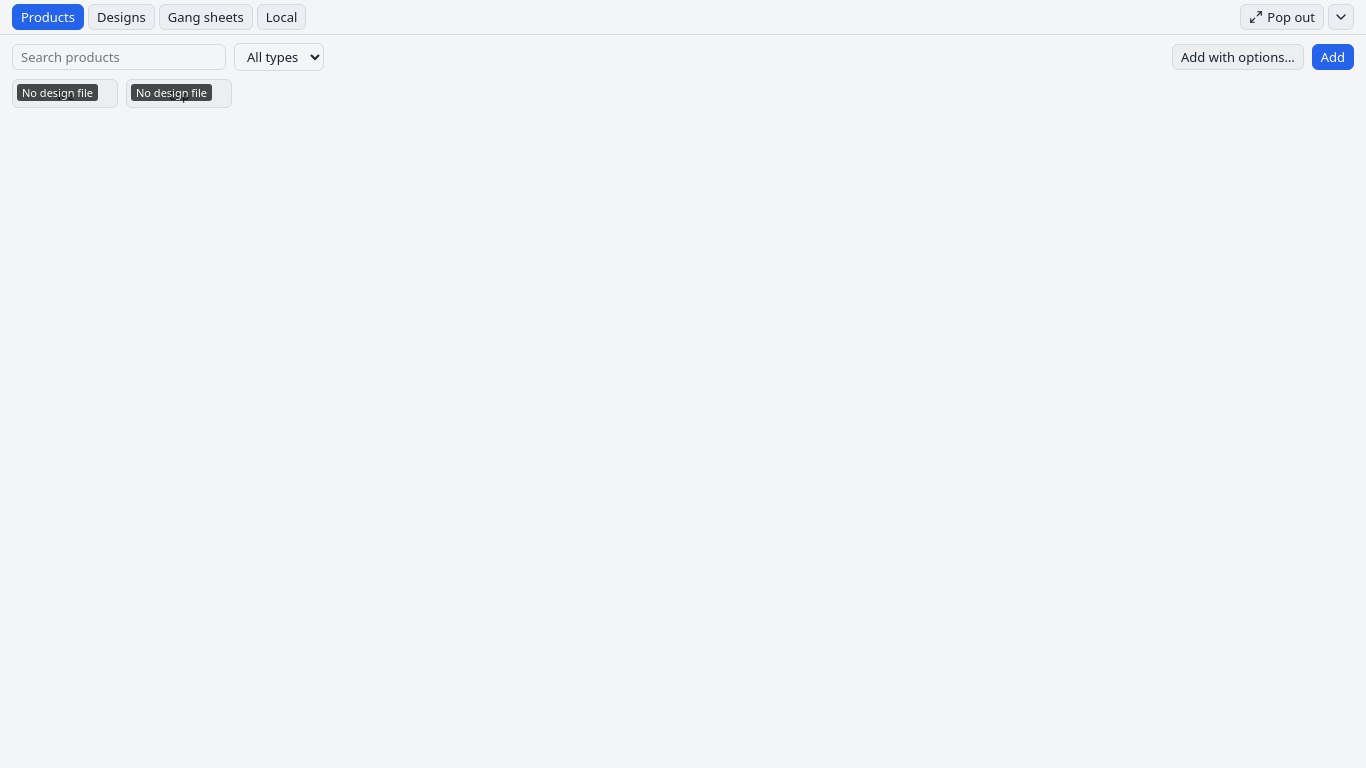
LibraryBrowser › counts selected items that are not in the current view
The width and height of the screenshot is (1366, 768).
Step 1. Click the button "Pop out" → coordinates (1282, 17), box x1=1240 y1=4 x2=1324 y2=30
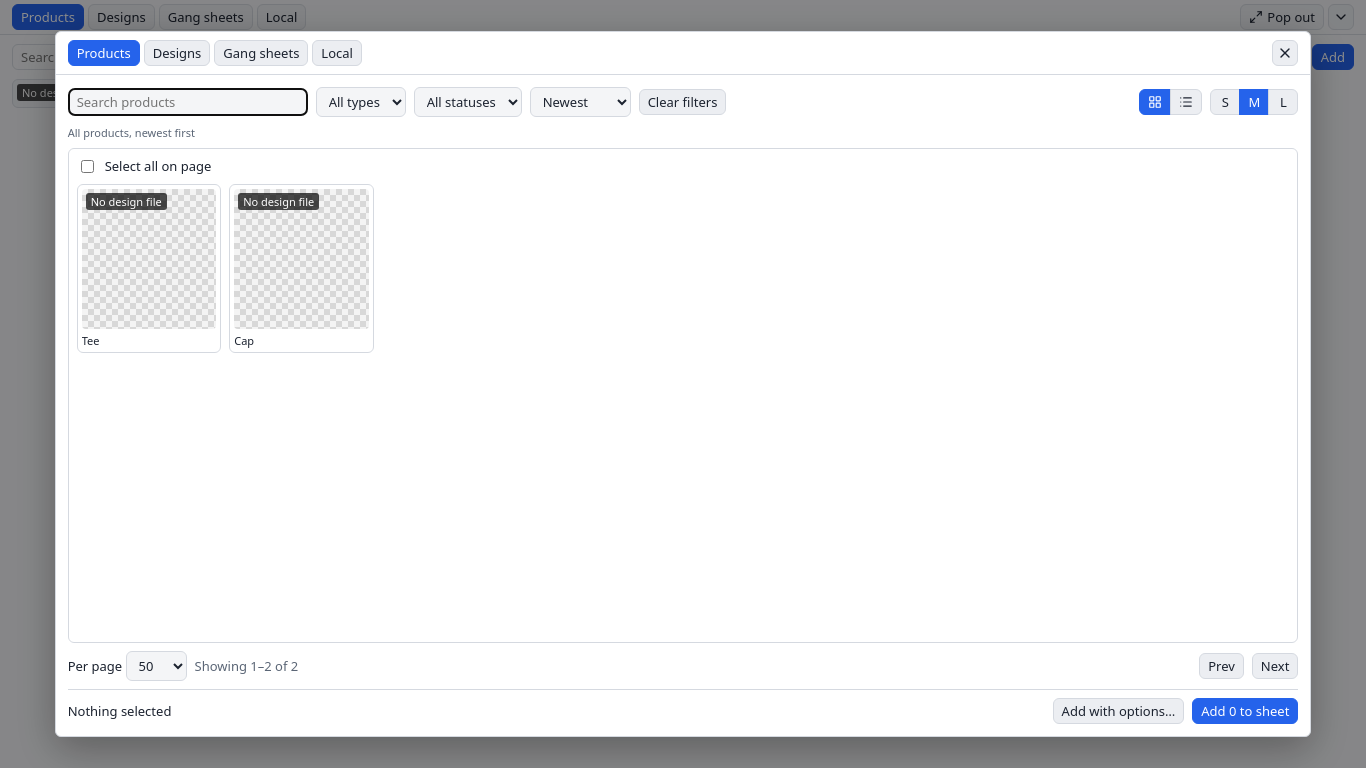
Step 2. Click the checkbox labelled "Tee" → coordinates (149, 268), box x1=77 y1=184 x2=221 y2=353
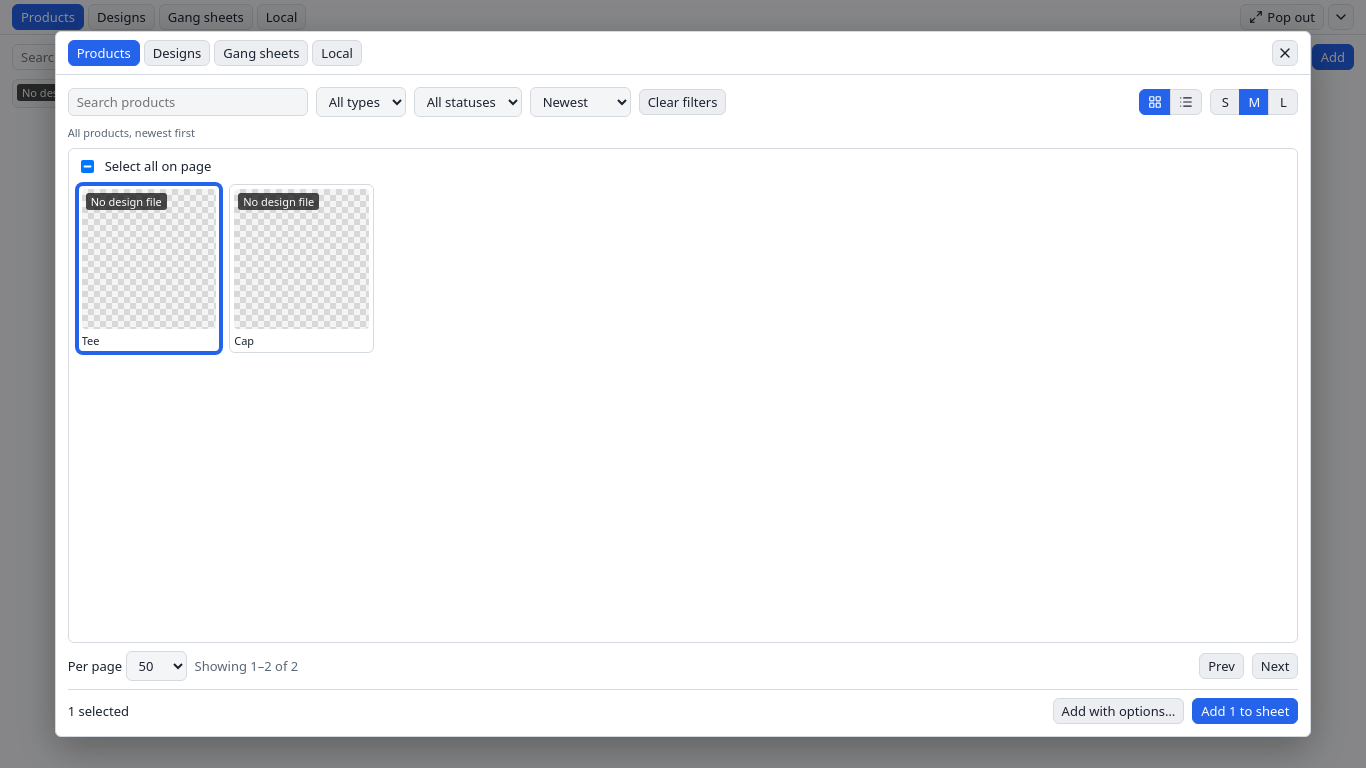
Step 3. Click the checkbox labelled "Cap" → coordinates (302, 268), box x1=229 y1=184 x2=374 y2=353
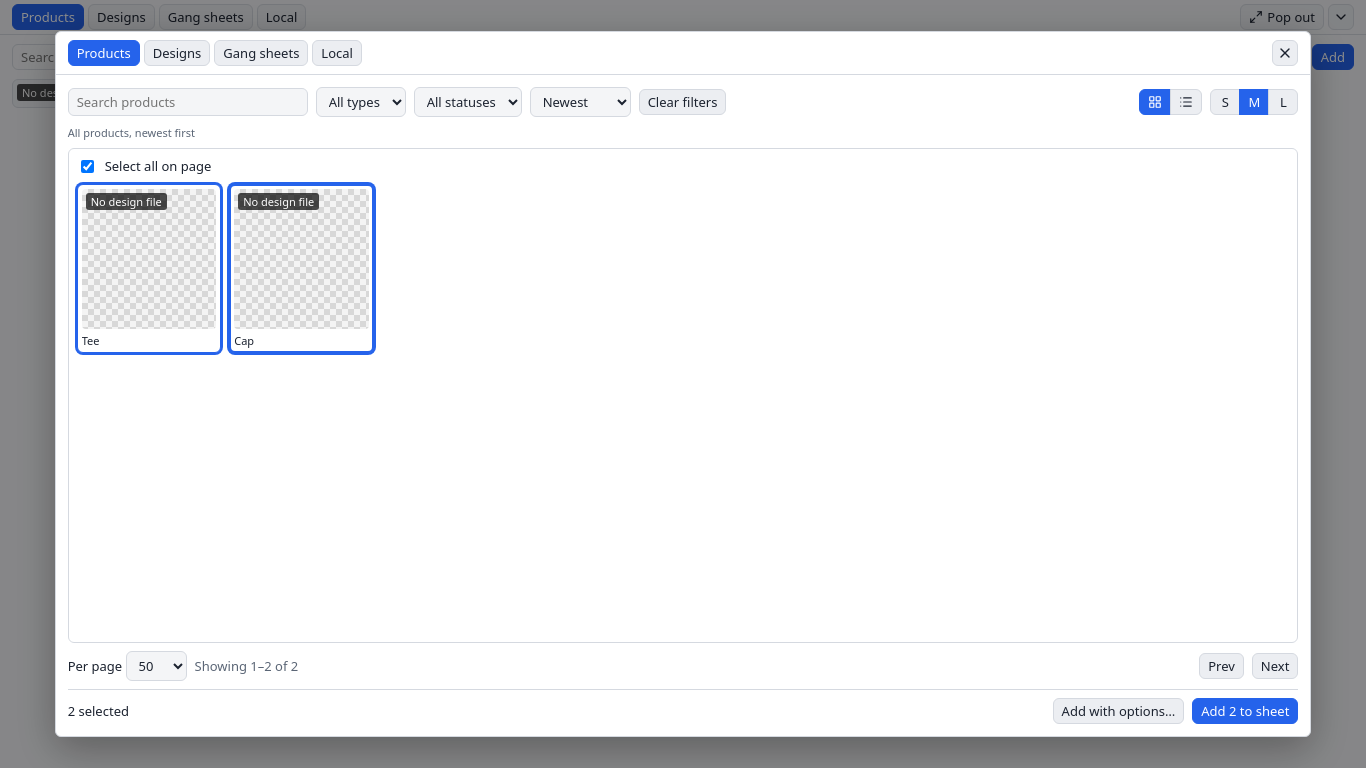
Result: the text "2 selected" is shown at x1=68 y1=702 x2=129 y2=720
Step 4. Type "tee" into the search field labelled "Search products" → coordinates (188, 102), box x1=68 y1=88 x2=308 y2=116
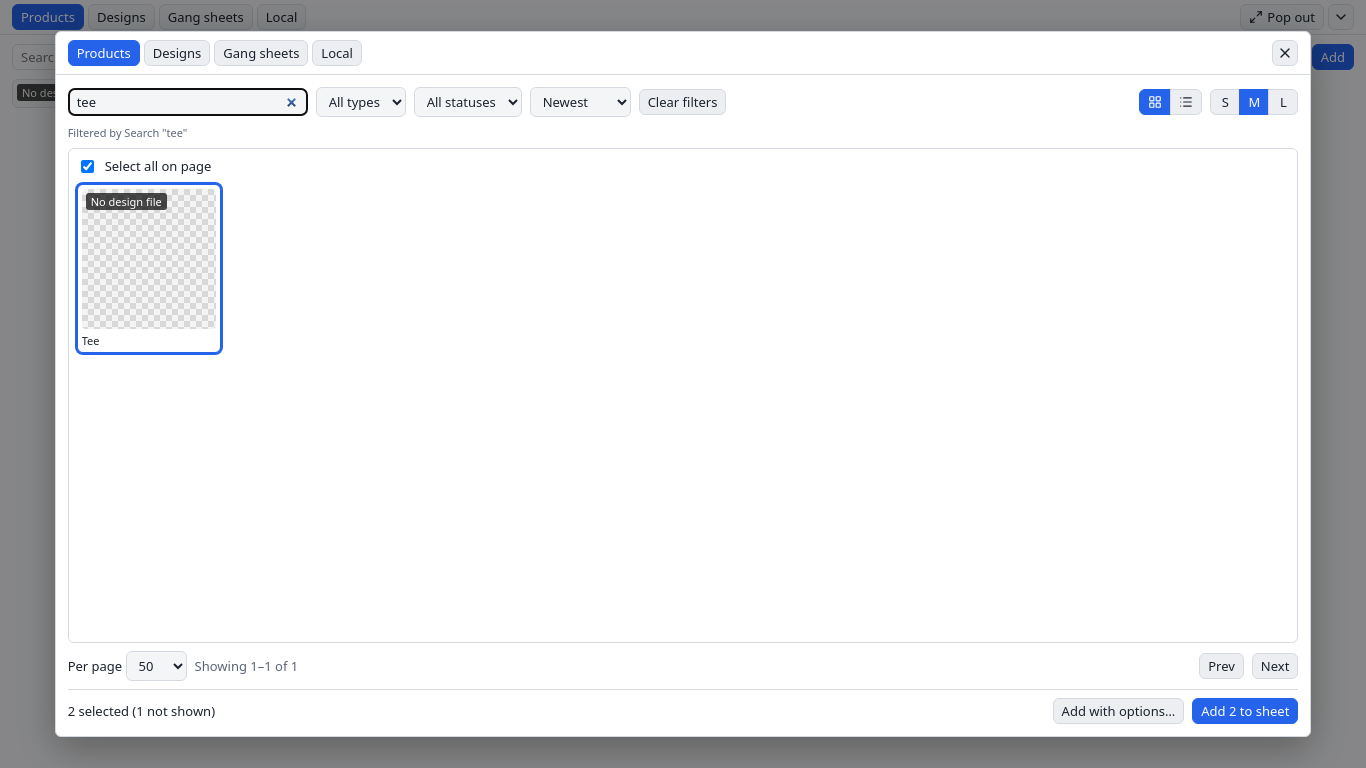
Result: the text "2 selected (1 not shown)" is shown at x1=68 y1=702 x2=215 y2=720
